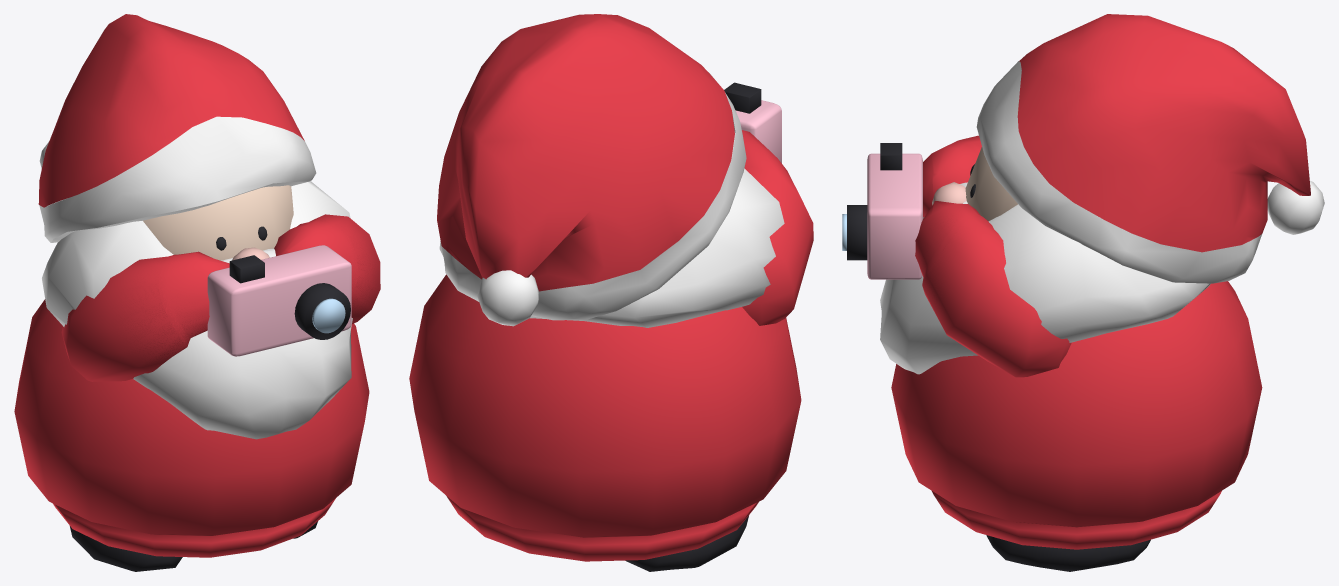
Rendered from camera.glb.
The picture shows the model from 3 angles, left to right: view 1: azimuth 30°, elevation 25°; view 2: azimuth 150°, elevation 25°; view 3: azimuth 270°, elevation 25°; orthographic projection. The views are drawn at different scales.
Visible parts, largest first — view 1: camera_red, camera_white, camera_pink, camera_skin, camera_black, camera_sky; view 2: camera_red, camera_white, camera_black, camera_pink; view 3: camera_red, camera_white, camera_pink, camera_black, camera_skin.
Boxes of the visible parts, bbox=[...] form: camera_red: bbox=[14, 14, 380, 557]; camera_white: bbox=[39, 116, 352, 439]; camera_pink: bbox=[207, 245, 351, 356]; camera_skin: bbox=[143, 185, 293, 260]; camera_black: bbox=[70, 226, 350, 571]; camera_sky: bbox=[312, 298, 345, 333]; camera_red: bbox=[409, 14, 813, 561]; camera_white: bbox=[439, 72, 784, 327]; camera_black: bbox=[625, 82, 761, 571]; camera_pink: bbox=[735, 100, 781, 163]; camera_red: bbox=[891, 14, 1310, 549]; camera_white: bbox=[880, 61, 1324, 374]; camera_pink: bbox=[867, 153, 922, 279]; camera_black: bbox=[847, 143, 1150, 571]; camera_skin: bbox=[965, 102, 1089, 220].
Bounding box in the file's own units: 2 × 2.98 × 2.6.
